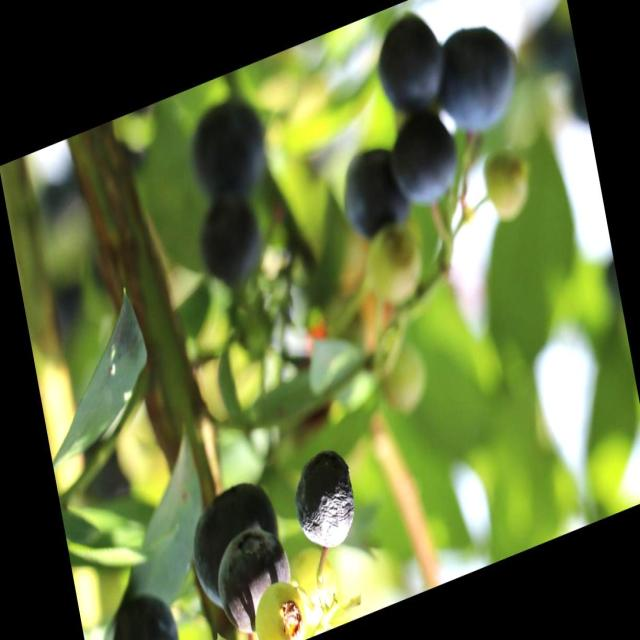blueberry: (182, 468, 296, 608), (431, 9, 524, 145), (184, 93, 277, 214), (208, 515, 298, 638), (364, 2, 453, 126), (384, 98, 465, 219), (331, 134, 413, 253), (290, 447, 363, 562), (195, 195, 268, 296), (97, 575, 192, 639)
blueberry-unripe: (478, 140, 535, 228), (286, 540, 342, 628), (246, 576, 308, 639)
